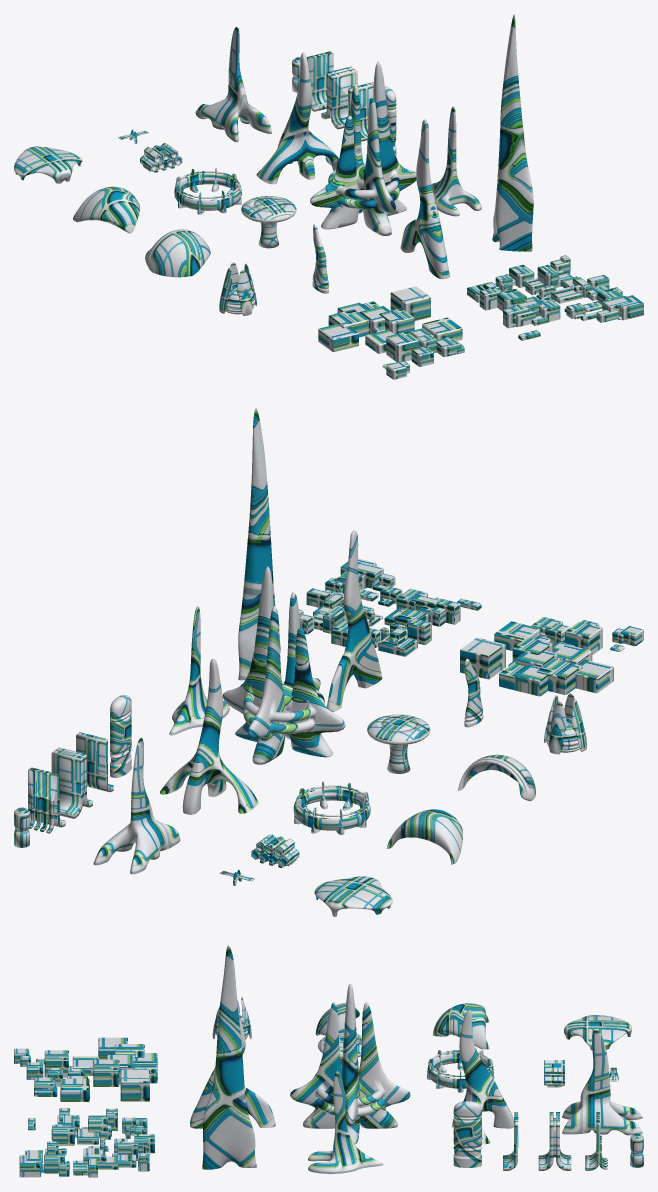
The model's file is bionic_architecture.glb.
The picture shows the model from 3 angles, top to bottom: view 1: azimuth 30°, elevation 25°; view 2: azimuth 150°, elevation 25°; view 3: azimuth 270°, elevation 25°; orthographic projection. The views are drawn at different scales.
Size of the model in its own units: 12.12 by 8.1 by 20.6.
2 materials, 2 textured.
